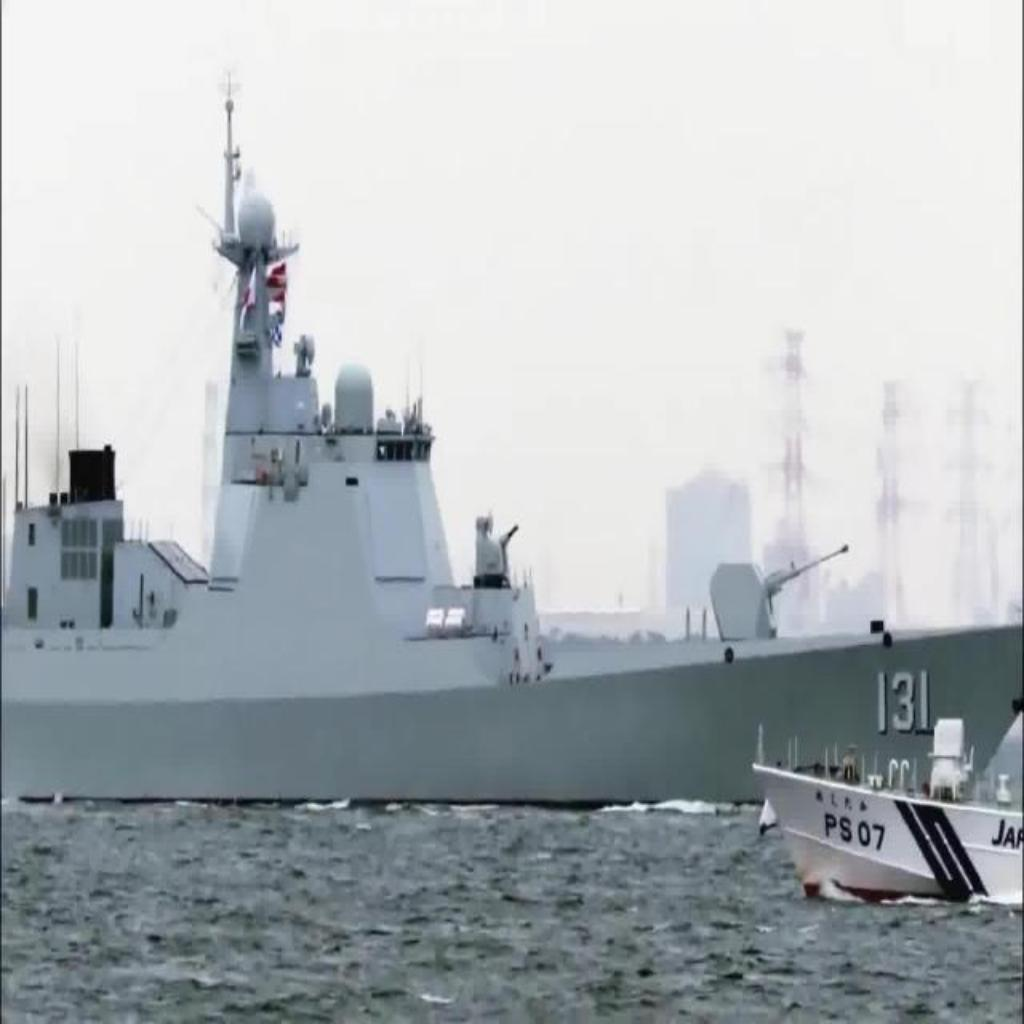Warship: (0, 73, 1024, 809)
